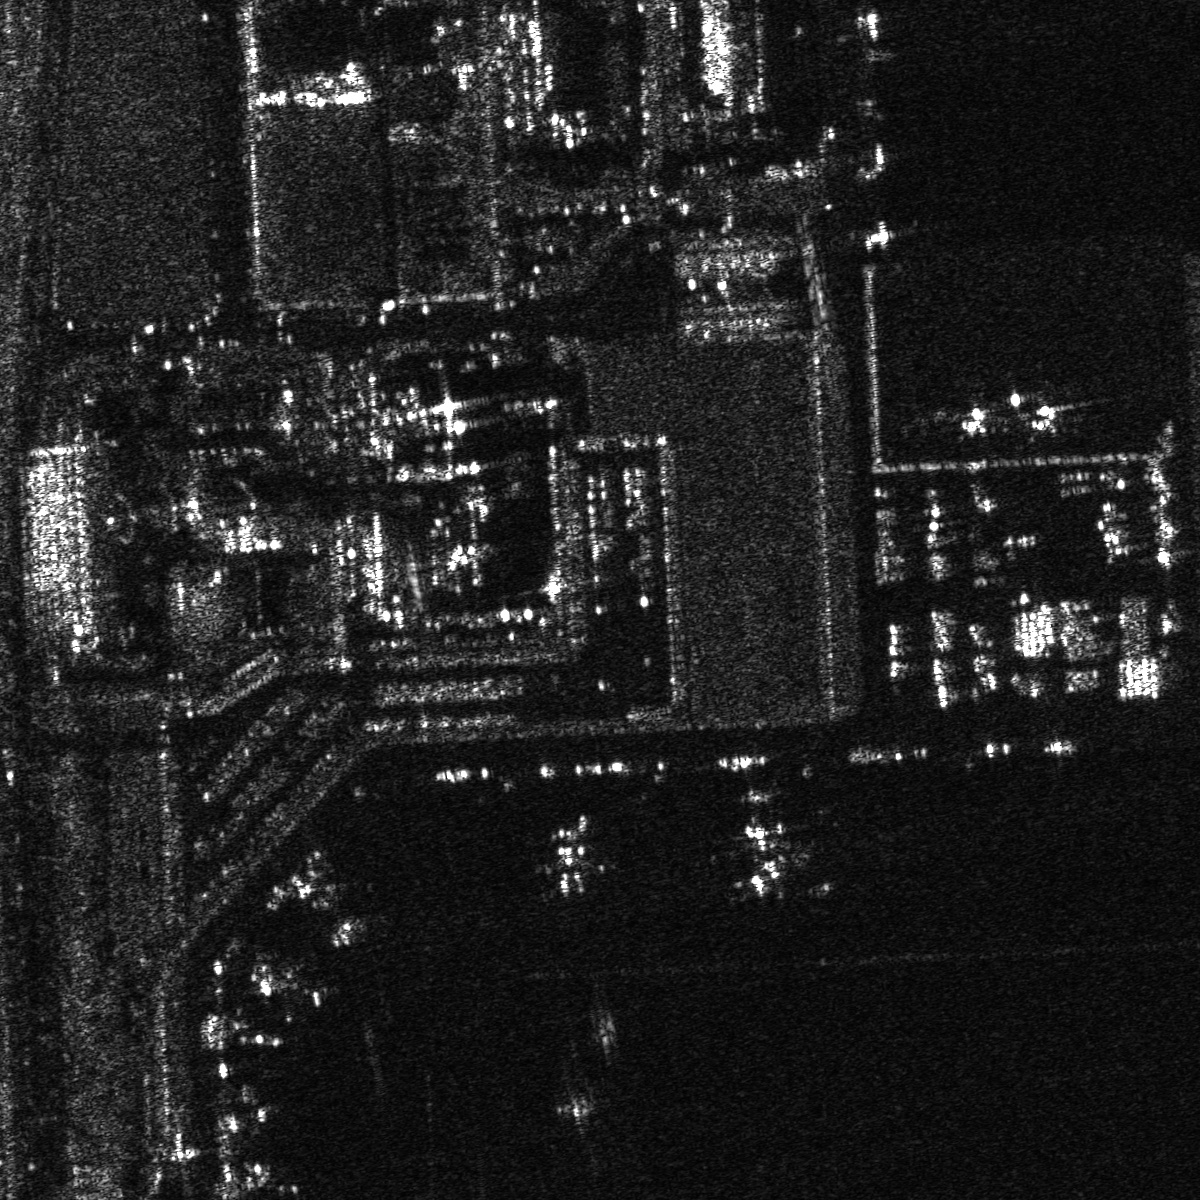A220: (287, 878, 378, 948), (253, 957, 338, 1026)
ARJ21: (934, 395, 1012, 441)
Boeing737: (523, 809, 619, 903)
other: (707, 782, 826, 900), (552, 1078, 614, 1137), (1016, 393, 1089, 438)
